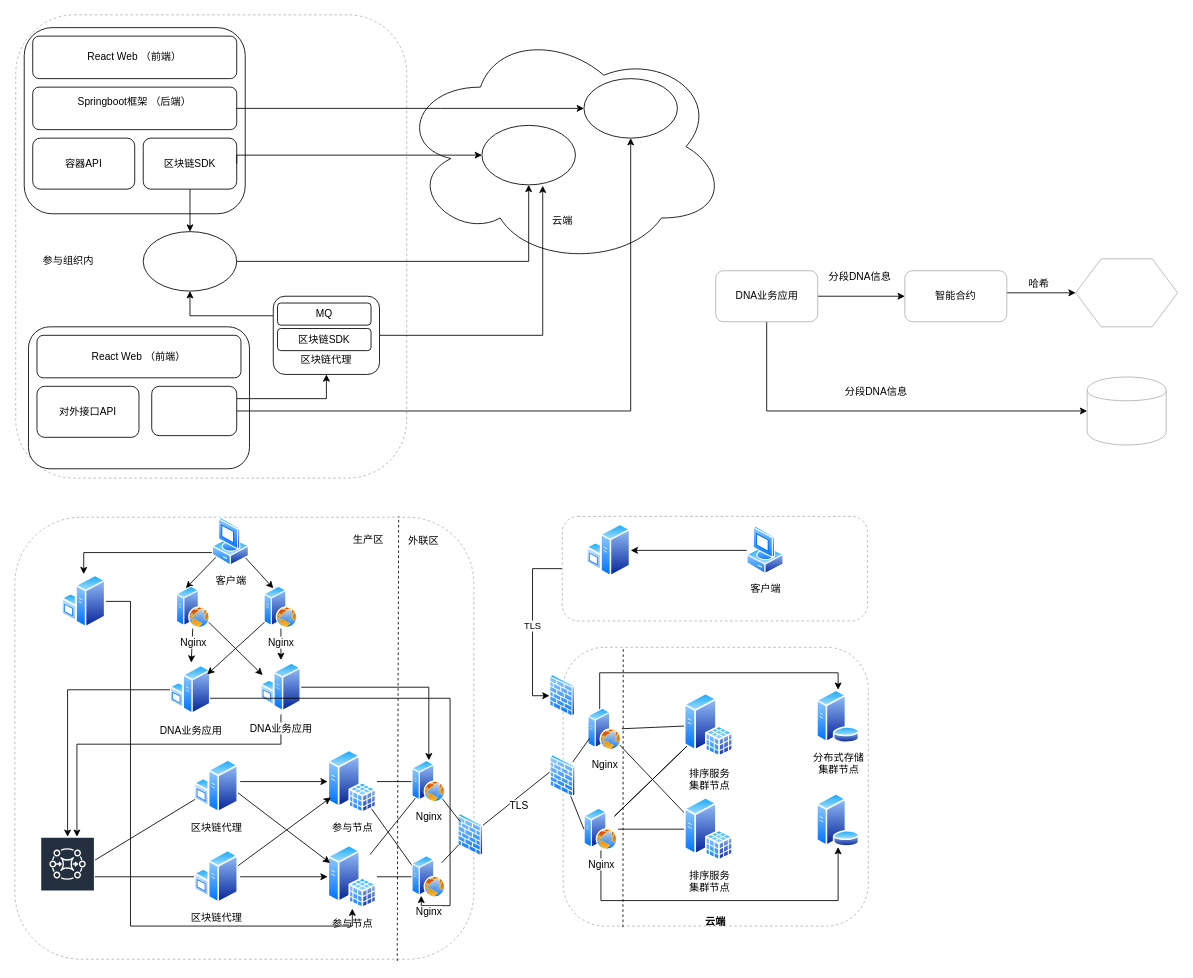
Image size: 1193x978. Some labels were removed from this diagram. The box of each missing label's shape, as (x1, y1, x2, y2) in pixels:
Java Springboot （后端）: (151, 385, 237, 436)
Rabbit MQ 集群: (40, 836, 95, 917)
分布式业务应用(DAPP): (28, 326, 249, 469)
分布式存储: (1086, 376, 1166, 445)
分布式存储集群: (583, 78, 677, 138)
区块链 节点集群: (142, 231, 237, 291)
区块链共识 服务集群: (481, 125, 575, 185)
区块链管理: (23, 27, 245, 214)
区块链管理服务: (61, 574, 105, 628)
参与者1 内部: (14, 516, 474, 959)
参与者2 内部: (561, 516, 867, 621)
参与者2 服务器组...: (586, 523, 630, 577)
链上数据: (1075, 258, 1178, 327)
